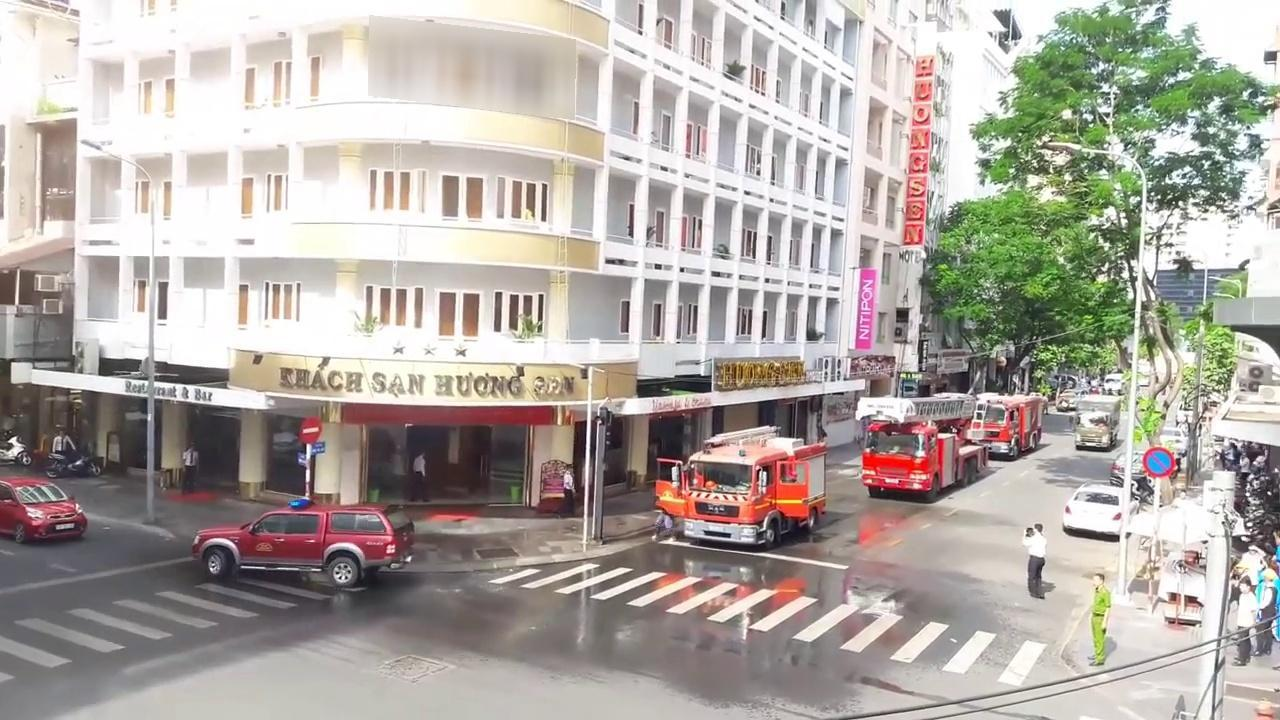xe cuu hoa: (655, 425, 825, 546), (855, 391, 984, 498)
xe hoi: (192, 499, 413, 588), (0, 474, 87, 542), (1060, 482, 1119, 536)
